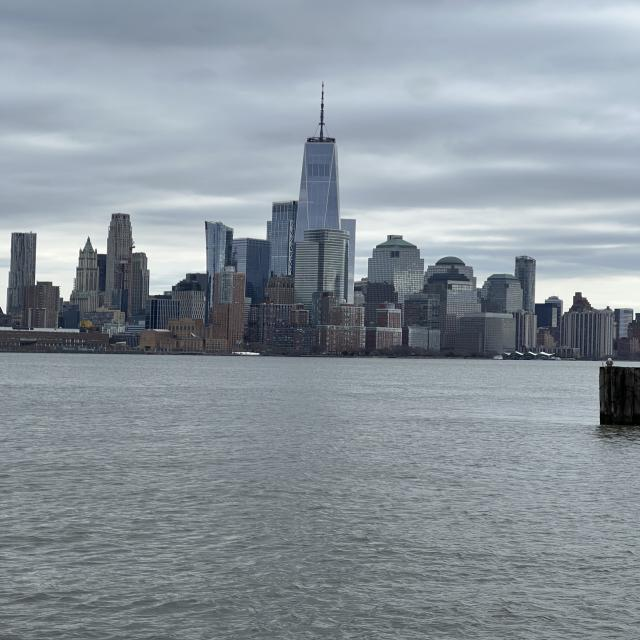WTC: (293, 80, 344, 232)
